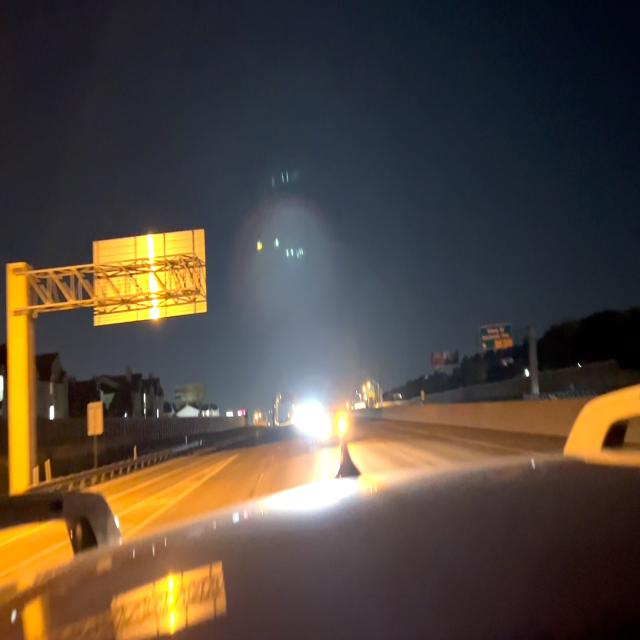back-of-sign: (93, 230, 207, 324)
